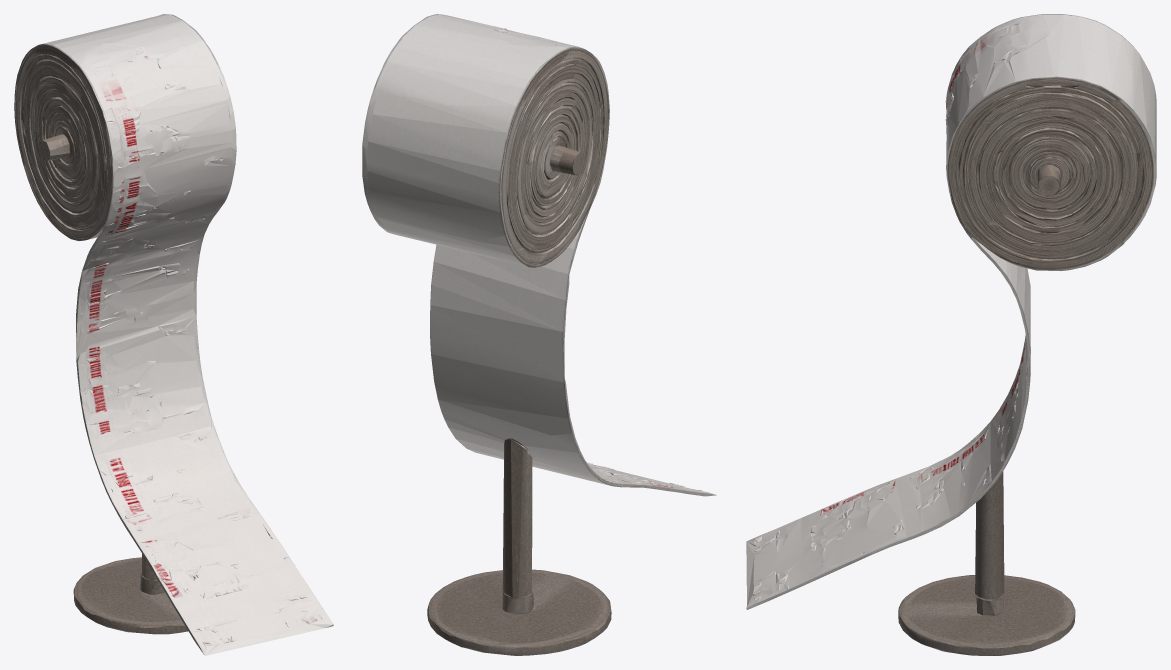
3 renders of one model, left to right at view 1: azimuth 30°, elevation 25°; view 2: azimuth 150°, elevation 25°; view 3: azimuth 270°, elevation 25°, orthographic. The views are drawn at different scales.
Bounding box in the file's own units: 0.6039 × 1.9 × 1.23.
Materials: 1 (1 with a texture image).
